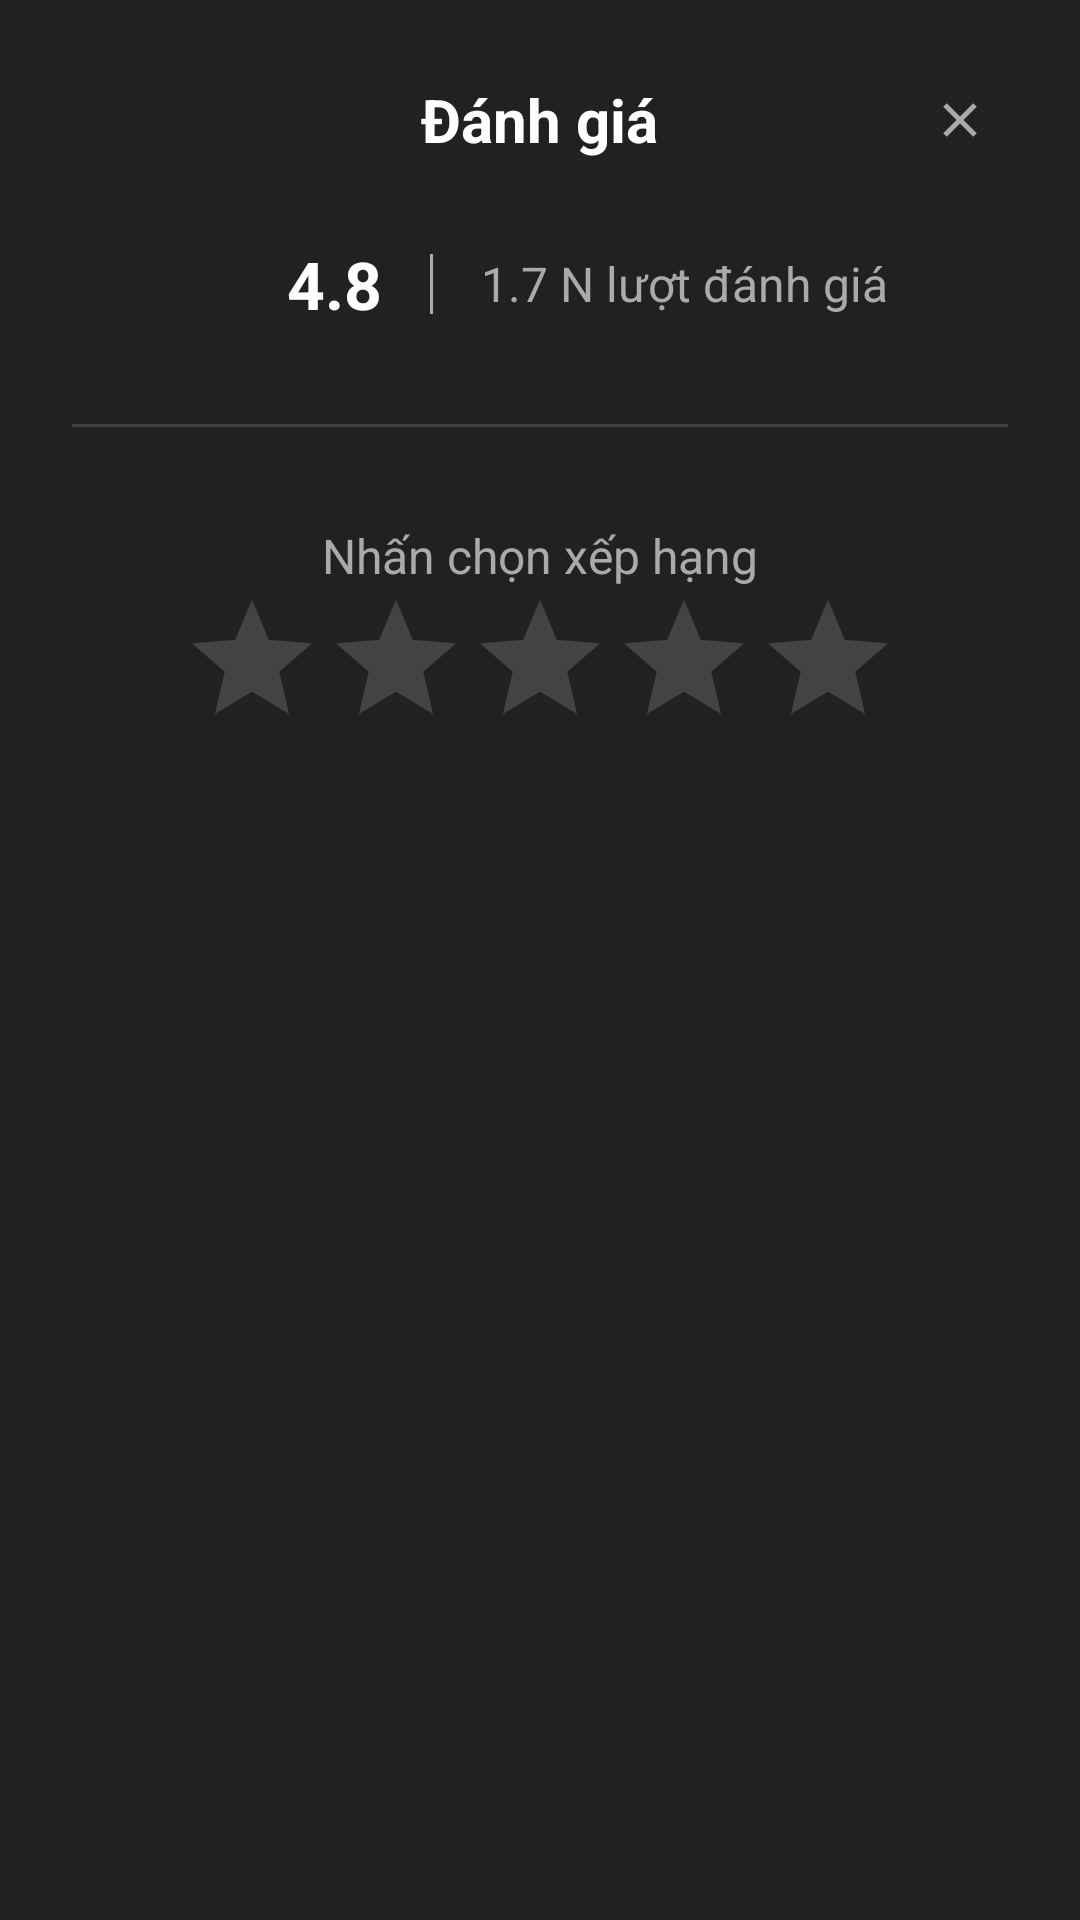

Icon bounding boxes for this 1080 x 1920 phone screenshot, format (x1, y1, x2, y2):
close: (943, 103, 977, 137)
